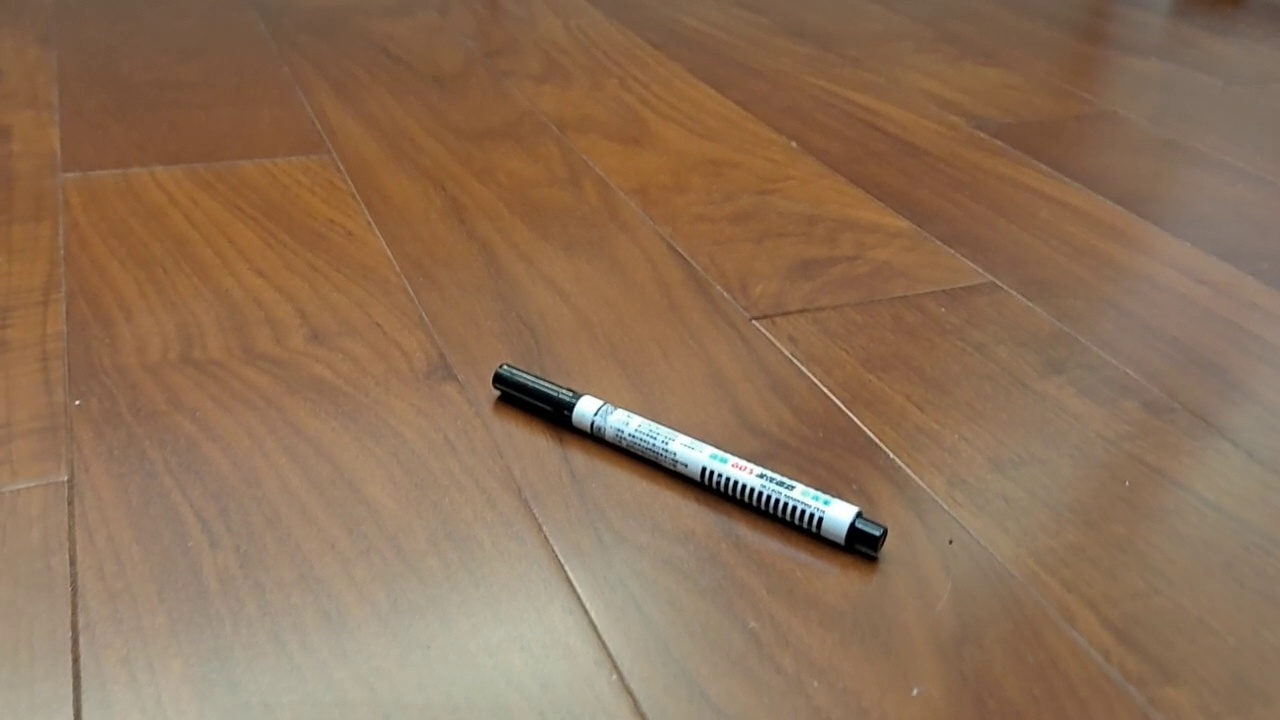pen: (490, 362, 889, 554)
